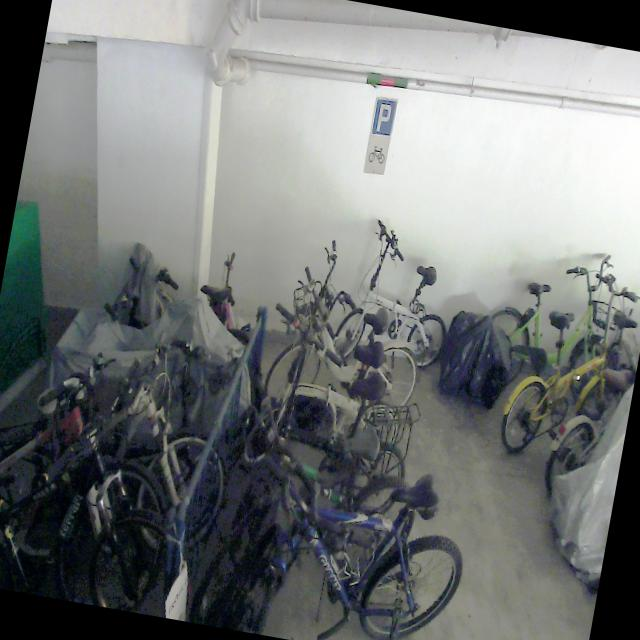bike: (0, 302, 246, 597), (188, 414, 482, 640), (0, 327, 195, 615), (205, 376, 434, 616), (260, 230, 439, 428), (248, 294, 425, 470), (495, 257, 640, 470), (474, 234, 623, 409), (329, 215, 464, 376)
